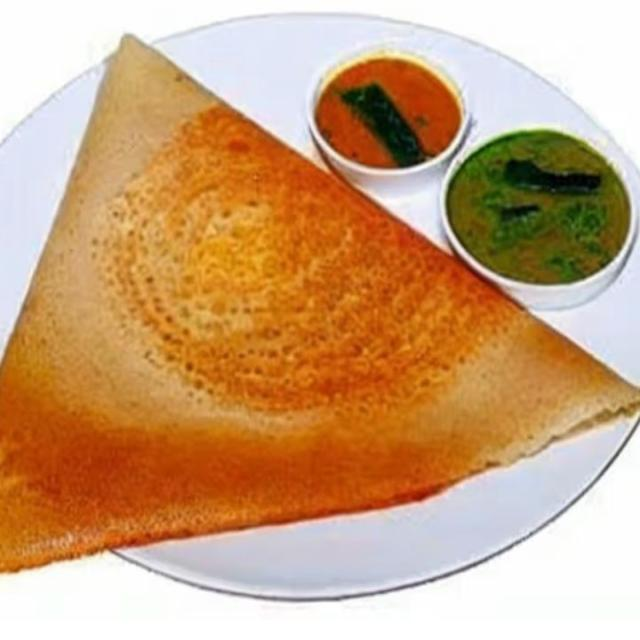DOSA: (1, 32, 639, 572)
GREEN CHUTNEY: (444, 125, 632, 287)
SAMBAR: (314, 54, 461, 176)
